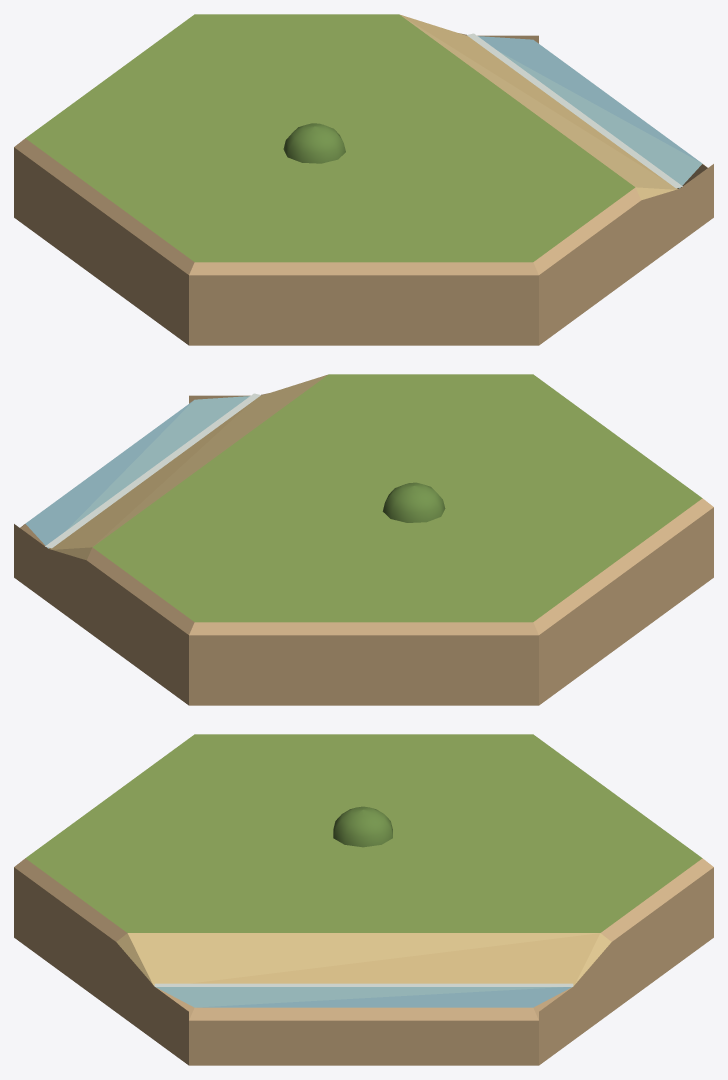
File: coast_side_1.fbx
3 renders of one model, top to bottom at view 1: azimuth 30°, elevation 25°; view 2: azimuth 150°, elevation 25°; view 3: azimuth 270°, elevation 25°, orthographic.
Visible parts, largest first — view 1: coast_side_1; view 2: coast_side_1; view 3: coast_side_1.
Part boxes in pixels (bbox=[...]): coast_side_1: bbox=[14, 14, 713, 345]; coast_side_1: bbox=[14, 374, 713, 705]; coast_side_1: bbox=[14, 734, 713, 1065].
Bounding box in the file's own units: 1.73 × 0.3265 × 2.
